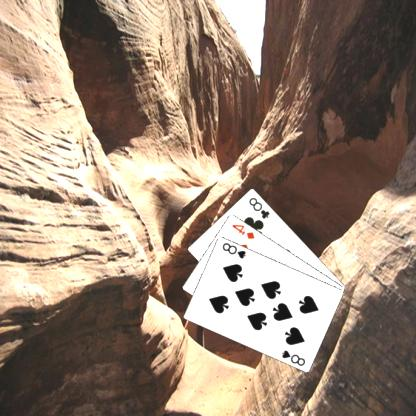4D: (231, 221, 258, 240)
8C: (248, 195, 273, 220)
8S: (221, 240, 249, 260), (281, 347, 308, 367)
